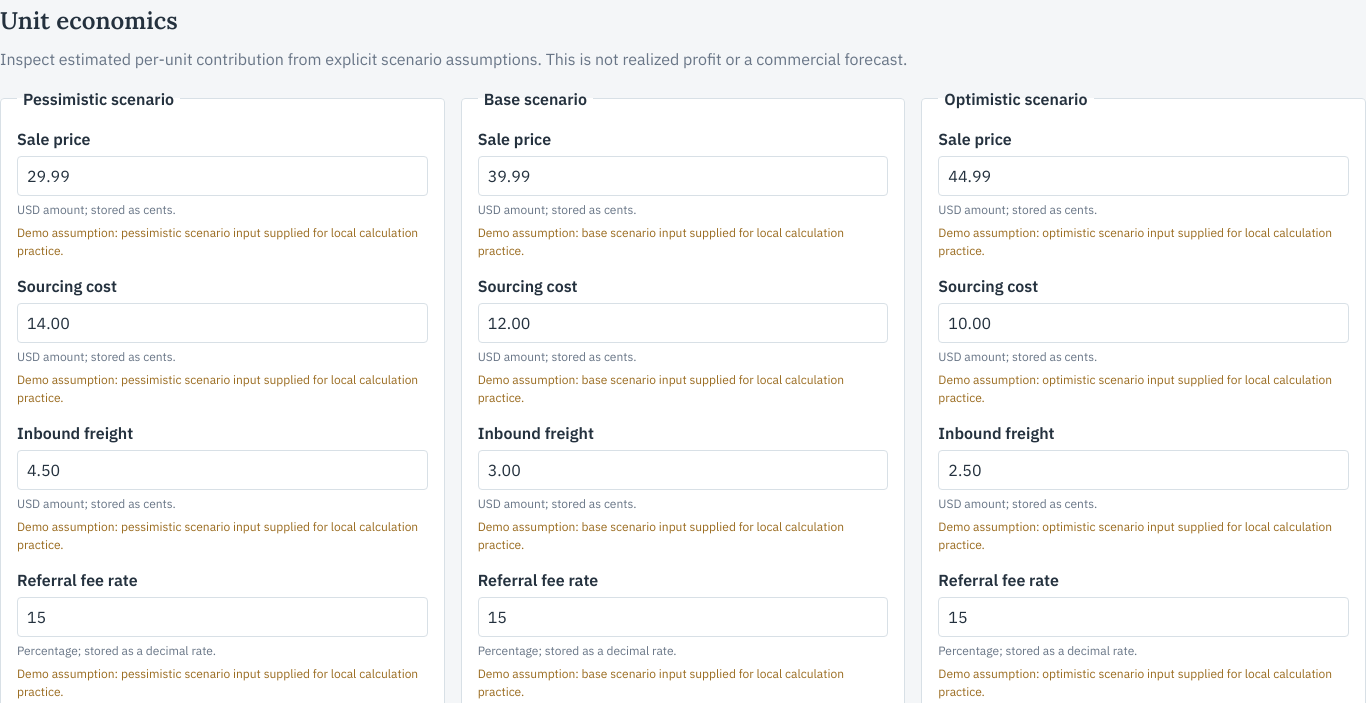
Scenario: EconomicsEditor › submits domain-invalid numeric drafts but blocks precision and unsafe drafts
Replace the text in the 2nd field labelled "Sale price" with "-2": coordinates (683, 176) [478, 156, 888, 196]
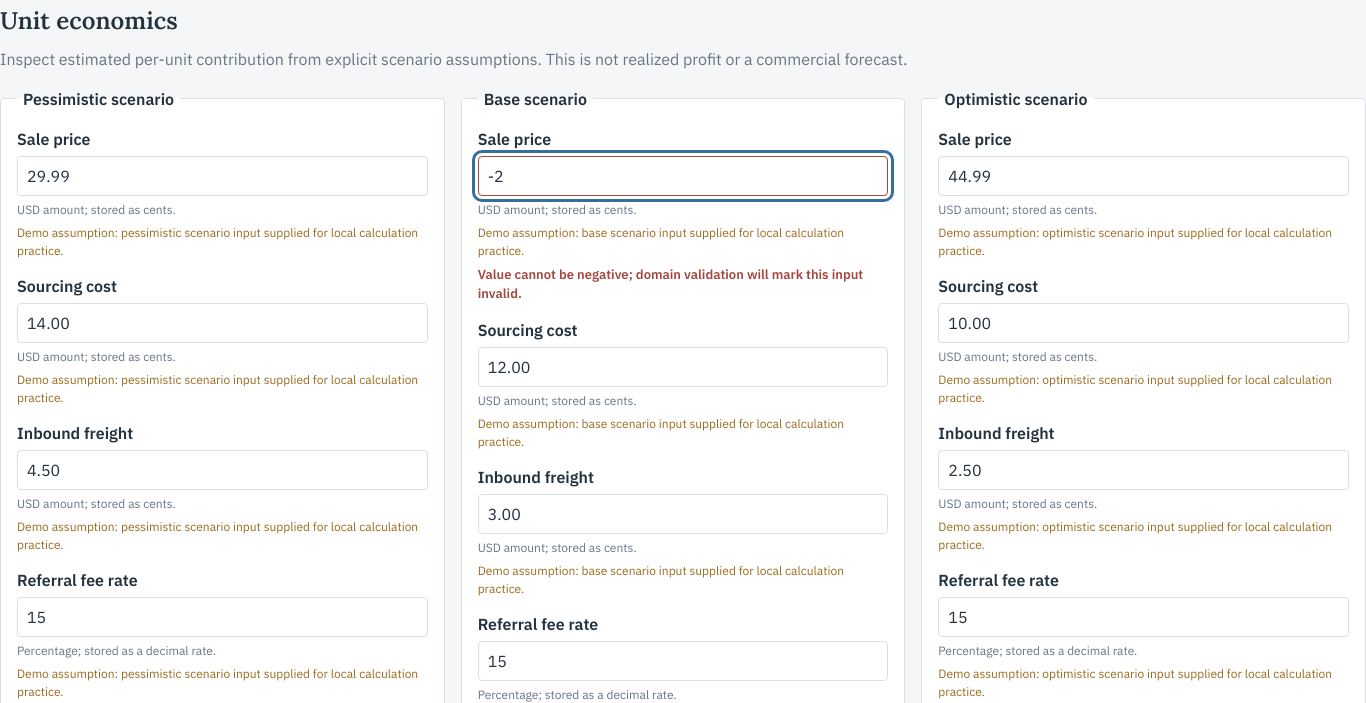
Replace the text in the 3rd field labelled "Referral fee rate" with "120": coordinates (683, 660) [478, 640, 888, 680]
(page scrolled)
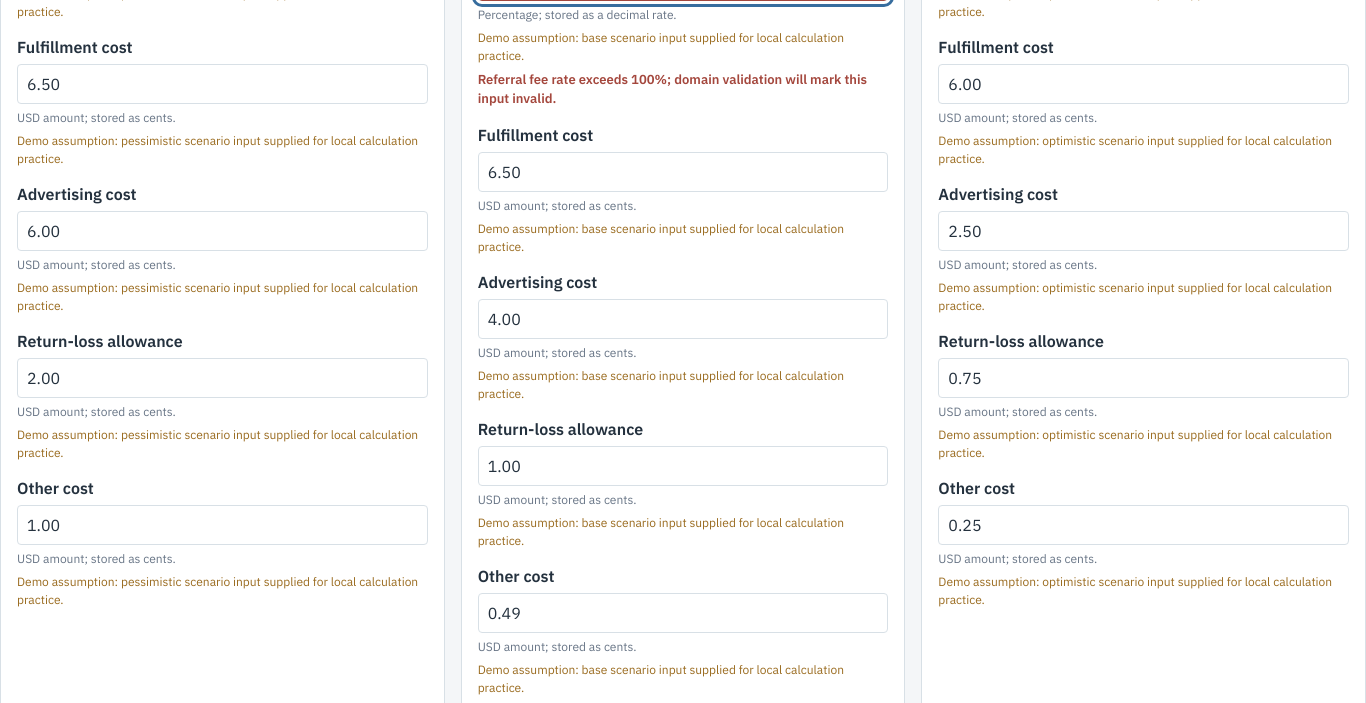
Replace the text in the 3rd field labelled "Other cost" with "19.999": coordinates (683, 612) [478, 592, 888, 632]
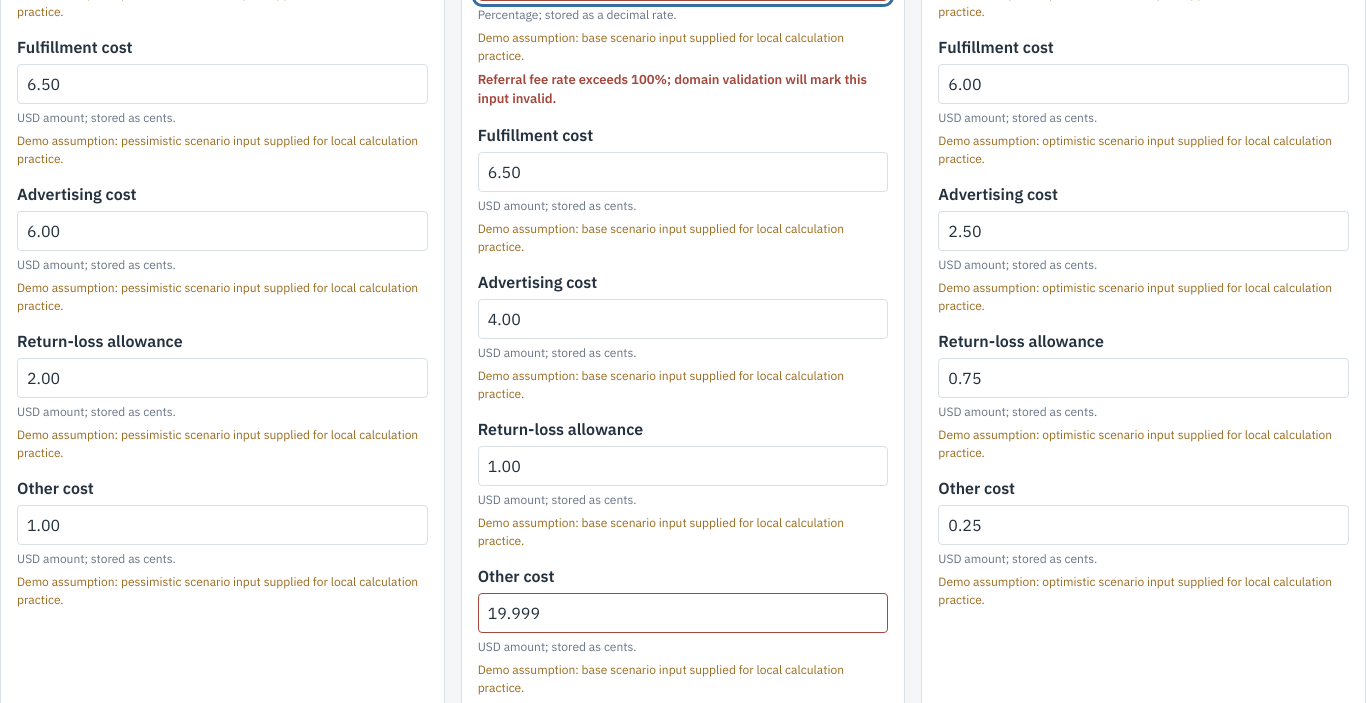
Replace the text in the 3rd field labelled "Other cost" with "1e309": coordinates (683, 612) [478, 592, 888, 632]
(page scrolled)
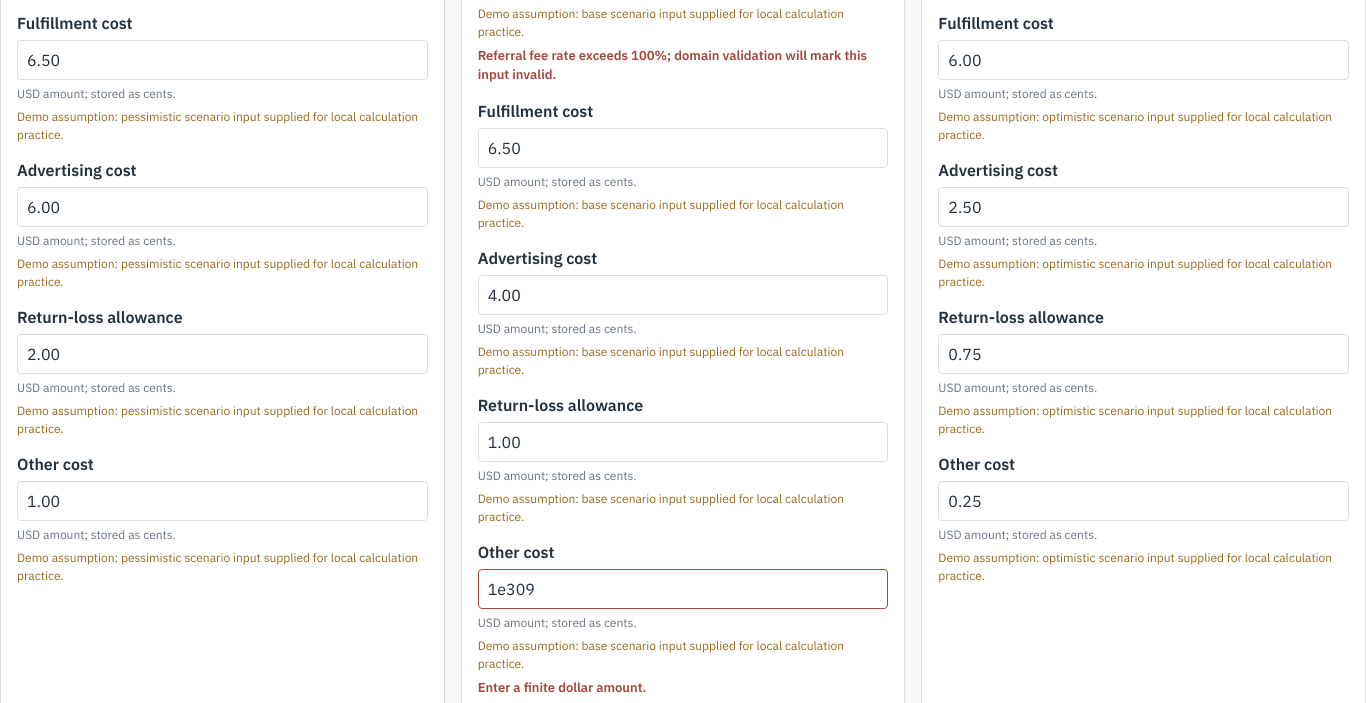
Expected: the text "Enter a finite dollar amount." is shown, [478, 678, 646, 696]
